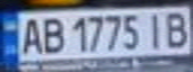1: (66, 14, 90, 52)
5: (121, 11, 145, 51)
7: (84, 12, 106, 52), (103, 11, 124, 52)
A: (15, 15, 45, 55)
B: (160, 8, 193, 50), (36, 15, 66, 55)
I: (142, 10, 169, 49)
